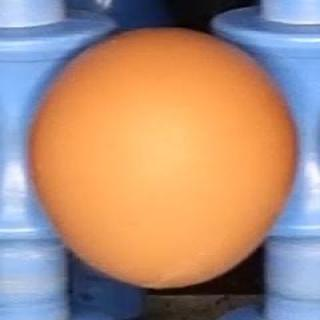Telur: (19, 25, 307, 290)
